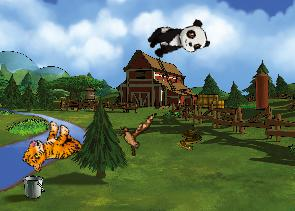eagle: (114, 107, 157, 159)
panda: (145, 17, 210, 62)
tiger: (18, 114, 86, 184)
